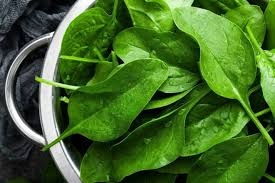spinach: (95, 92, 209, 179), (61, 61, 173, 139), (173, 7, 251, 106)
